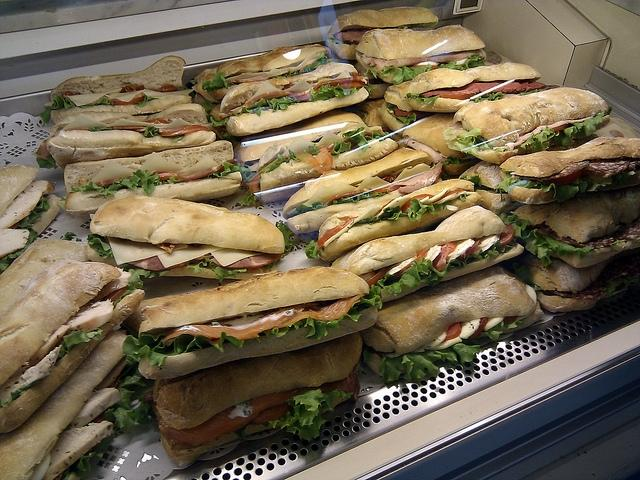lettuce: (123, 286, 383, 370), (377, 211, 532, 296), (104, 367, 156, 434), (74, 169, 184, 198), (520, 177, 612, 203), (56, 328, 104, 364), (286, 401, 328, 442), (186, 258, 247, 284), (292, 389, 353, 412), (401, 350, 442, 382), (542, 236, 594, 260), (379, 63, 433, 85), (342, 126, 384, 153), (520, 125, 560, 153), (446, 128, 482, 156), (308, 84, 361, 103), (1, 244, 30, 275), (86, 234, 115, 260), (387, 103, 417, 126), (202, 161, 240, 179), (408, 198, 436, 222), (333, 190, 379, 204), (606, 278, 640, 296), (451, 343, 480, 364), (202, 72, 228, 92), (552, 126, 578, 146), (267, 96, 298, 112), (44, 95, 73, 110), (18, 210, 42, 228), (462, 53, 486, 70), (332, 140, 354, 158), (37, 152, 58, 169), (296, 202, 323, 214), (304, 240, 322, 258), (387, 206, 408, 220), (408, 95, 440, 104), (460, 174, 482, 187), (438, 61, 464, 71), (86, 98, 115, 106), (144, 126, 160, 138), (128, 282, 143, 290), (447, 155, 460, 164)
